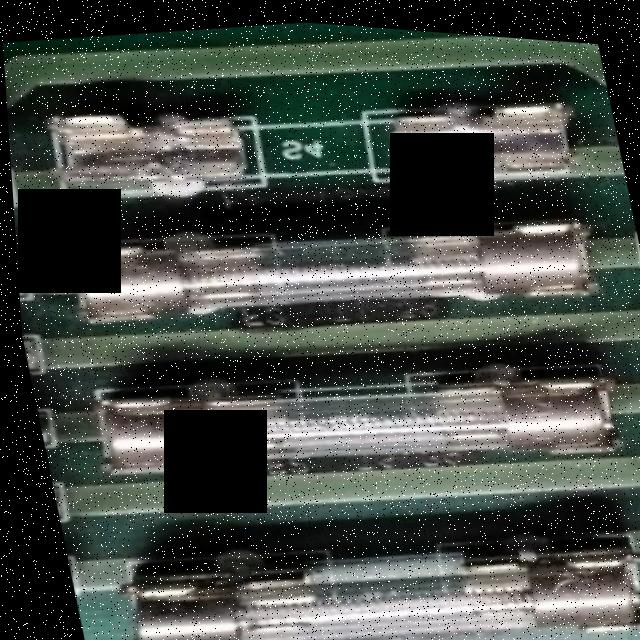fuse F1: (51, 174, 603, 363), (74, 325, 623, 506), (79, 490, 640, 640)
